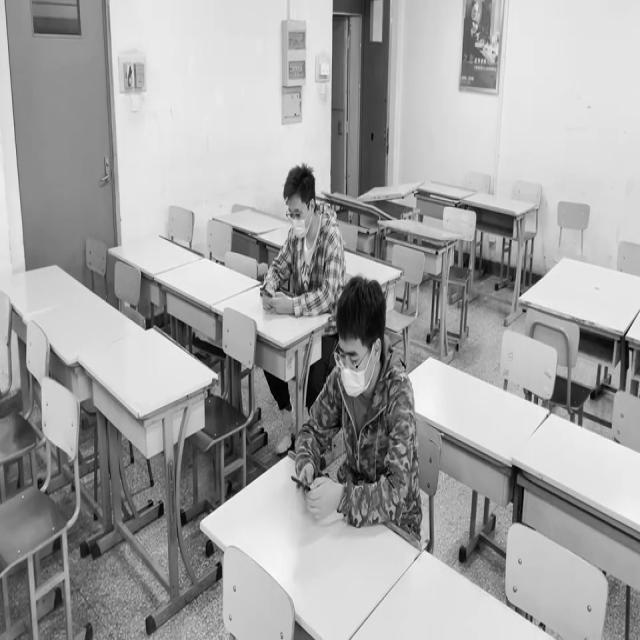phone: (294, 325, 415, 522), (262, 168, 336, 312)
